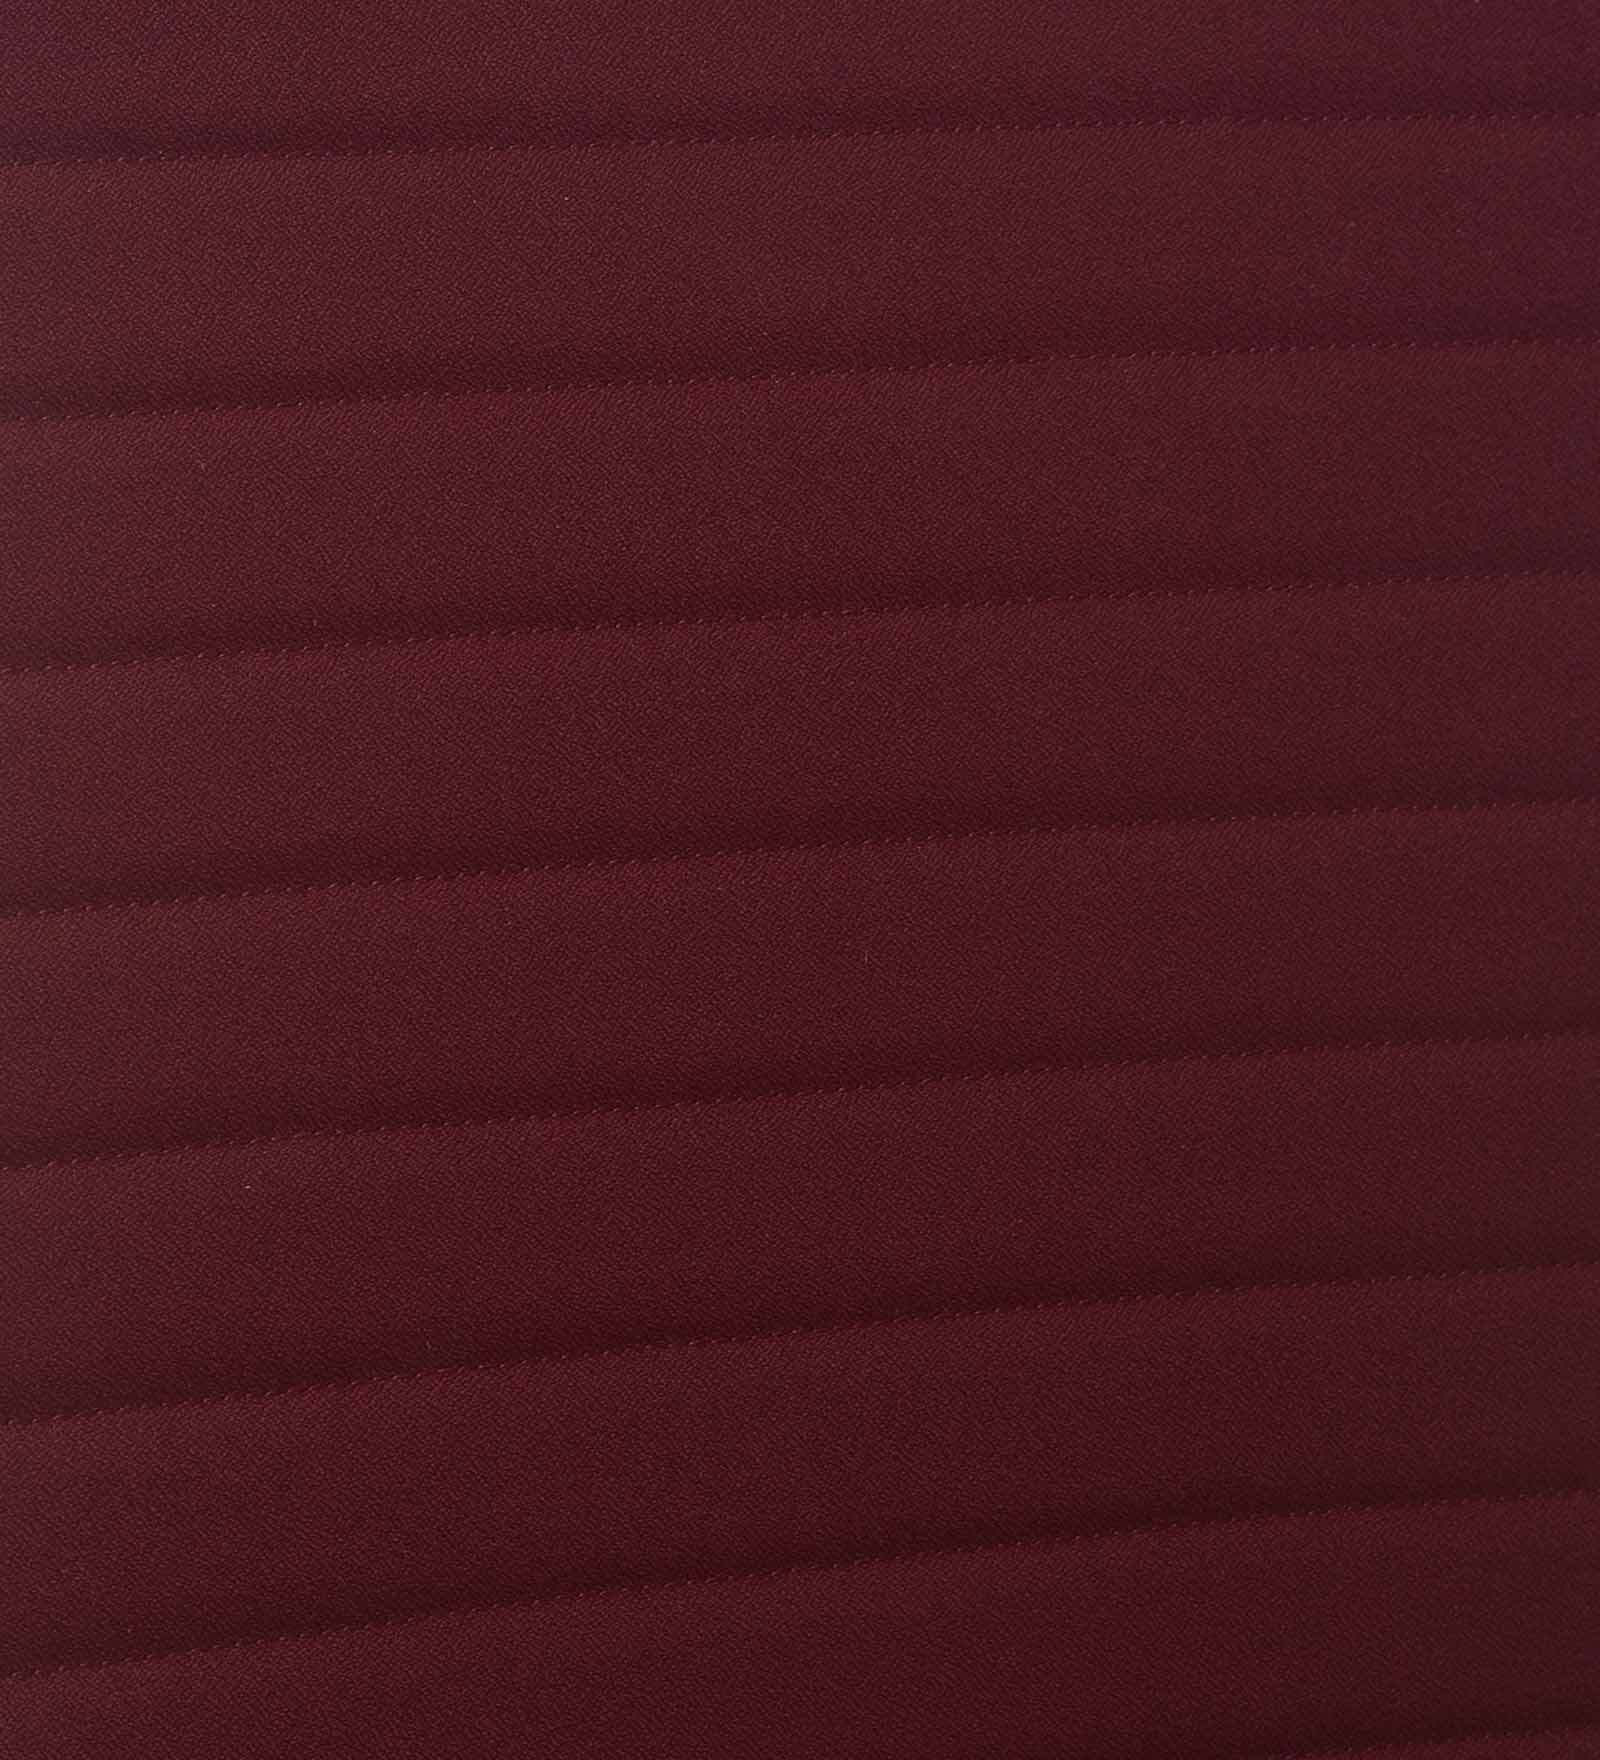Thames Low Back Ergonomic Chair in Maroon Colour by Nilkamal: (126, 173, 1522, 1656)
